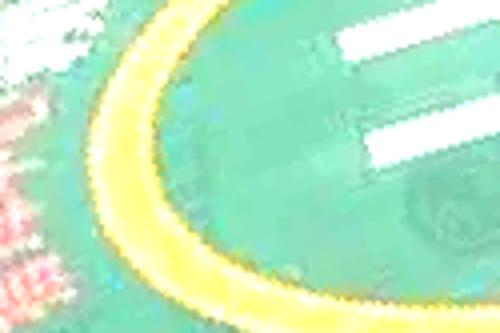Apron: (73, 1, 500, 333)
